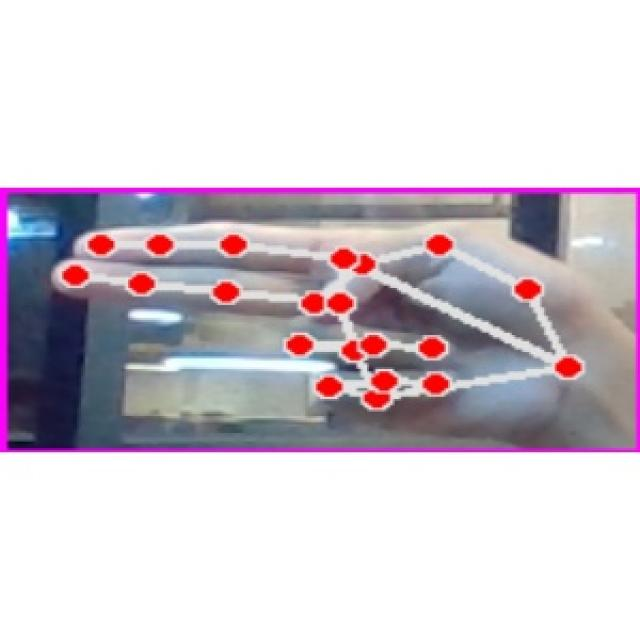H: (42, 207, 625, 443)
